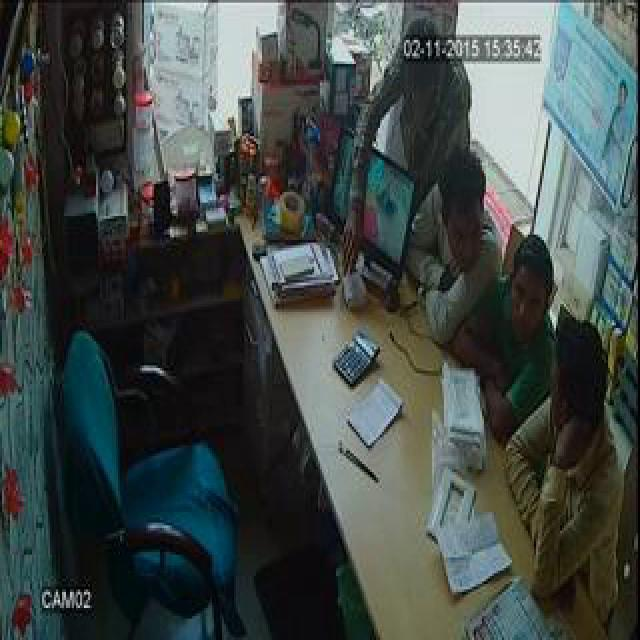shoplifting: (342, 6, 534, 429)
